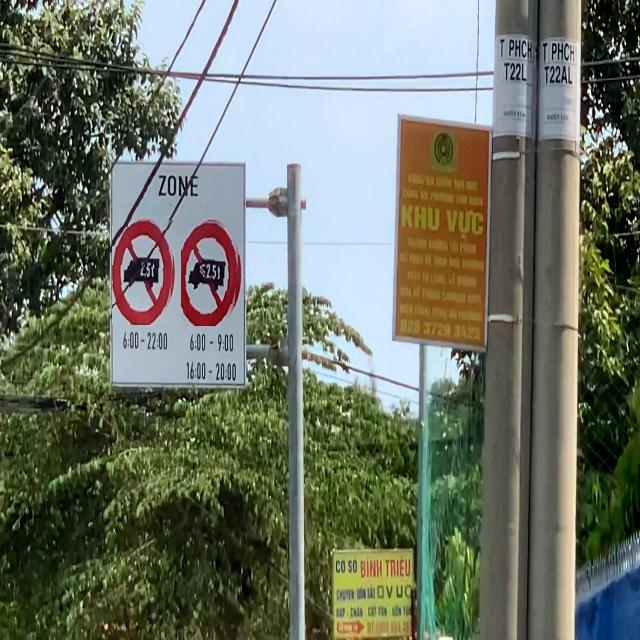bien_cam: (112, 216, 175, 325), (181, 218, 241, 326)
